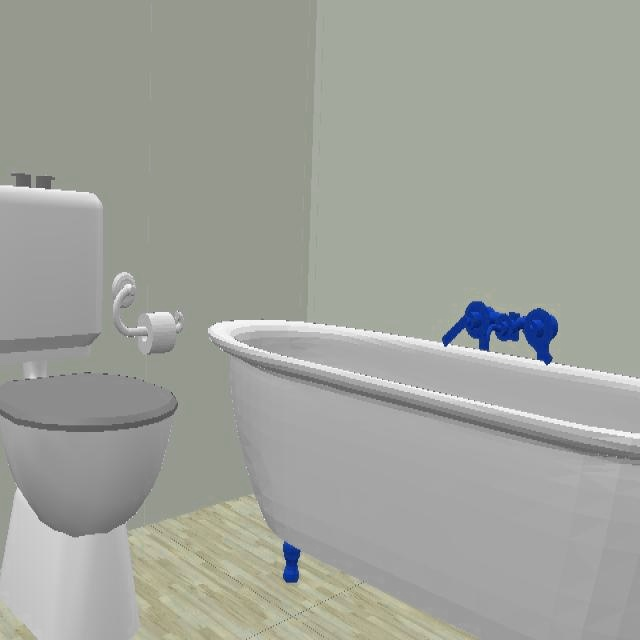bathtube: (208, 320, 640, 640)
toilet: (0, 173, 178, 601)
